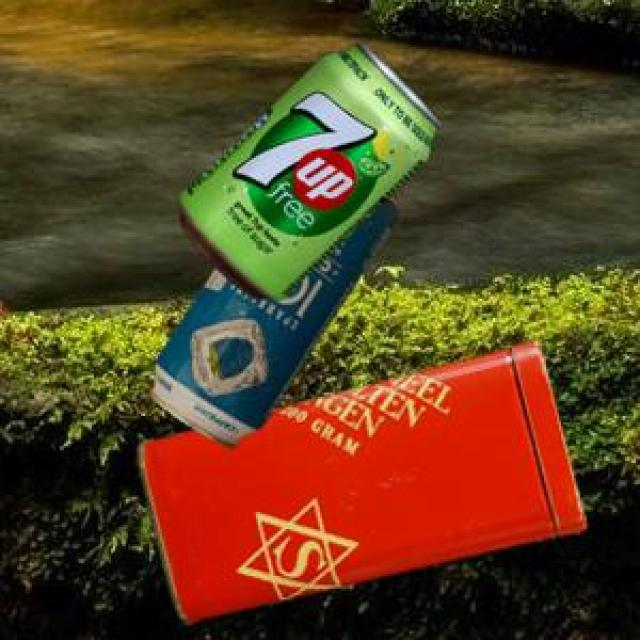logam: (133, 338, 582, 622), (176, 37, 438, 298), (146, 189, 398, 445)
